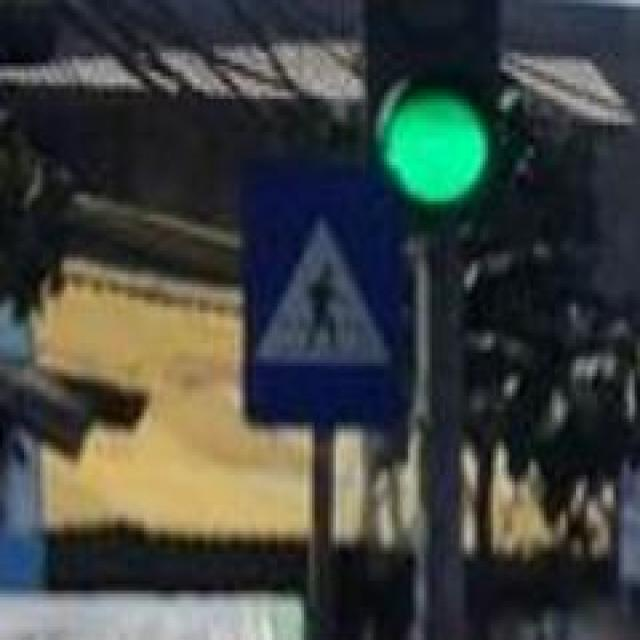traffic sign: (240, 165, 422, 432)
